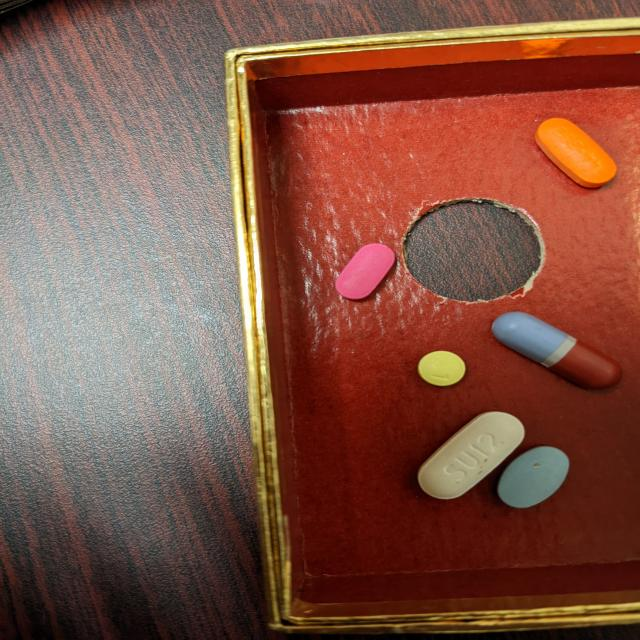non-organic waste: (489, 310, 624, 392), (415, 410, 526, 500), (533, 116, 619, 190), (496, 444, 570, 510), (333, 242, 396, 302), (417, 349, 468, 387)
